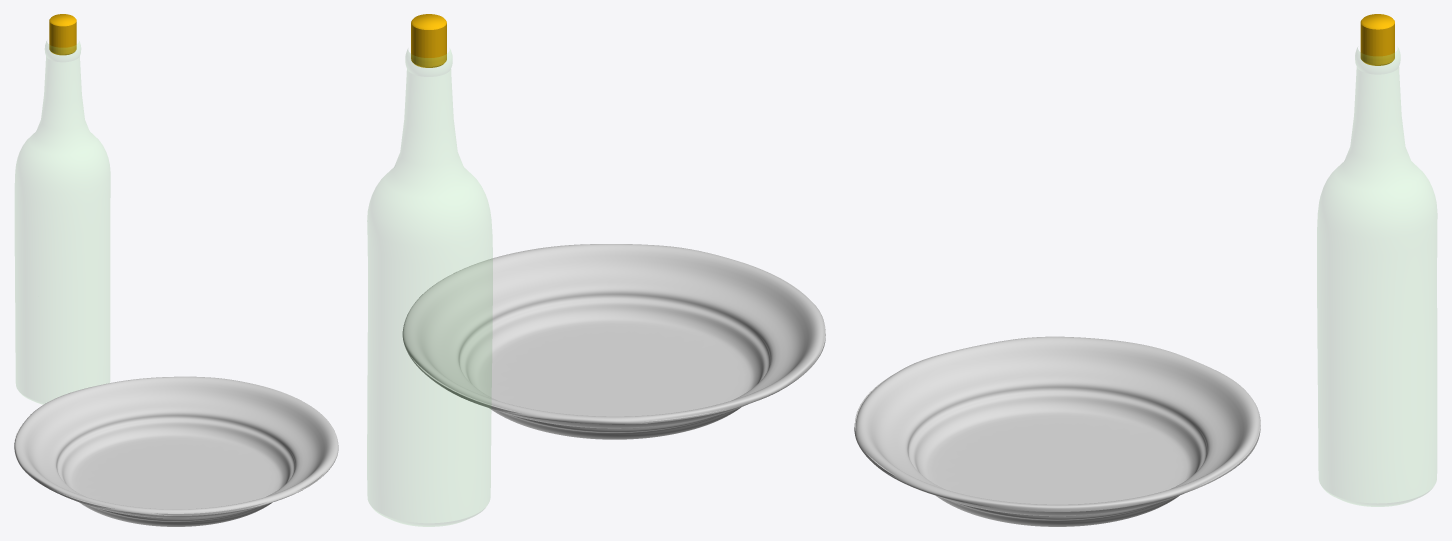
3 renders of one model, left to right at view 1: azimuth 30°, elevation 25°; view 2: azimuth 150°, elevation 25°; view 3: azimuth 270°, elevation 25°, orthographic. The views are drawn at different scales.
Parts seen in each view (by area): view 1: Plate_1, Bottle_2, Bottle Cork_3; view 2: Plate_1, Bottle_2, Bottle Cork_3; view 3: Plate_1, Bottle_2, Bottle Cork_3.
Boxes of the visible parts, bbox=[...] form: Plate_1: bbox=[14, 376, 338, 526]; Bottle_2: bbox=[15, 41, 109, 403]; Bottle Cork_3: bbox=[49, 14, 76, 55]; Plate_1: bbox=[402, 244, 825, 439]; Bottle_2: bbox=[367, 50, 492, 526]; Bottle Cork_3: bbox=[411, 14, 446, 67]; Plate_1: bbox=[854, 336, 1260, 526]; Bottle_2: bbox=[1317, 48, 1436, 506]; Bottle Cork_3: bbox=[1360, 14, 1394, 65].
Size of the model in its own units: 1.45 by 1.84 by 2.09.
